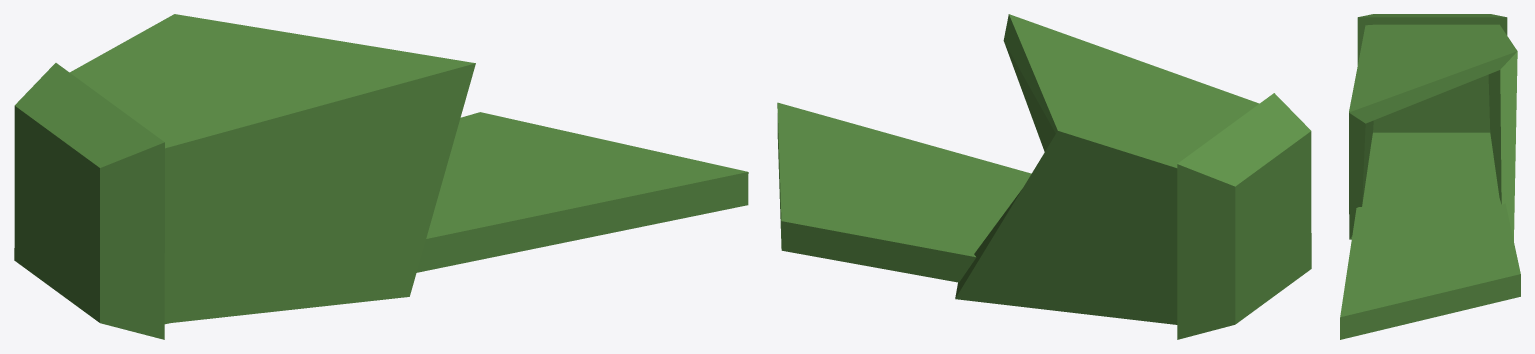
The model's file is cornLeafs.fbx.
3 renders of one model, left to right at view 1: azimuth 30°, elevation 25°; view 2: azimuth 150°, elevation 25°; view 3: azimuth 270°, elevation 25°, orthographic. The views are drawn at different scales.
Parts seen in each view (by area): view 1: cornLeafs; view 2: cornLeafs; view 3: cornLeafs.
Part boxes in pixels (x1,y1,x2,y2): cornLeafs: (14, 14, 748, 339); cornLeafs: (777, 14, 1311, 339); cornLeafs: (1340, 14, 1520, 339).
Bounding box in the file's own units: 14.51 × 4.9 × 5.31.
Materials: 1 (1 with a texture image).
